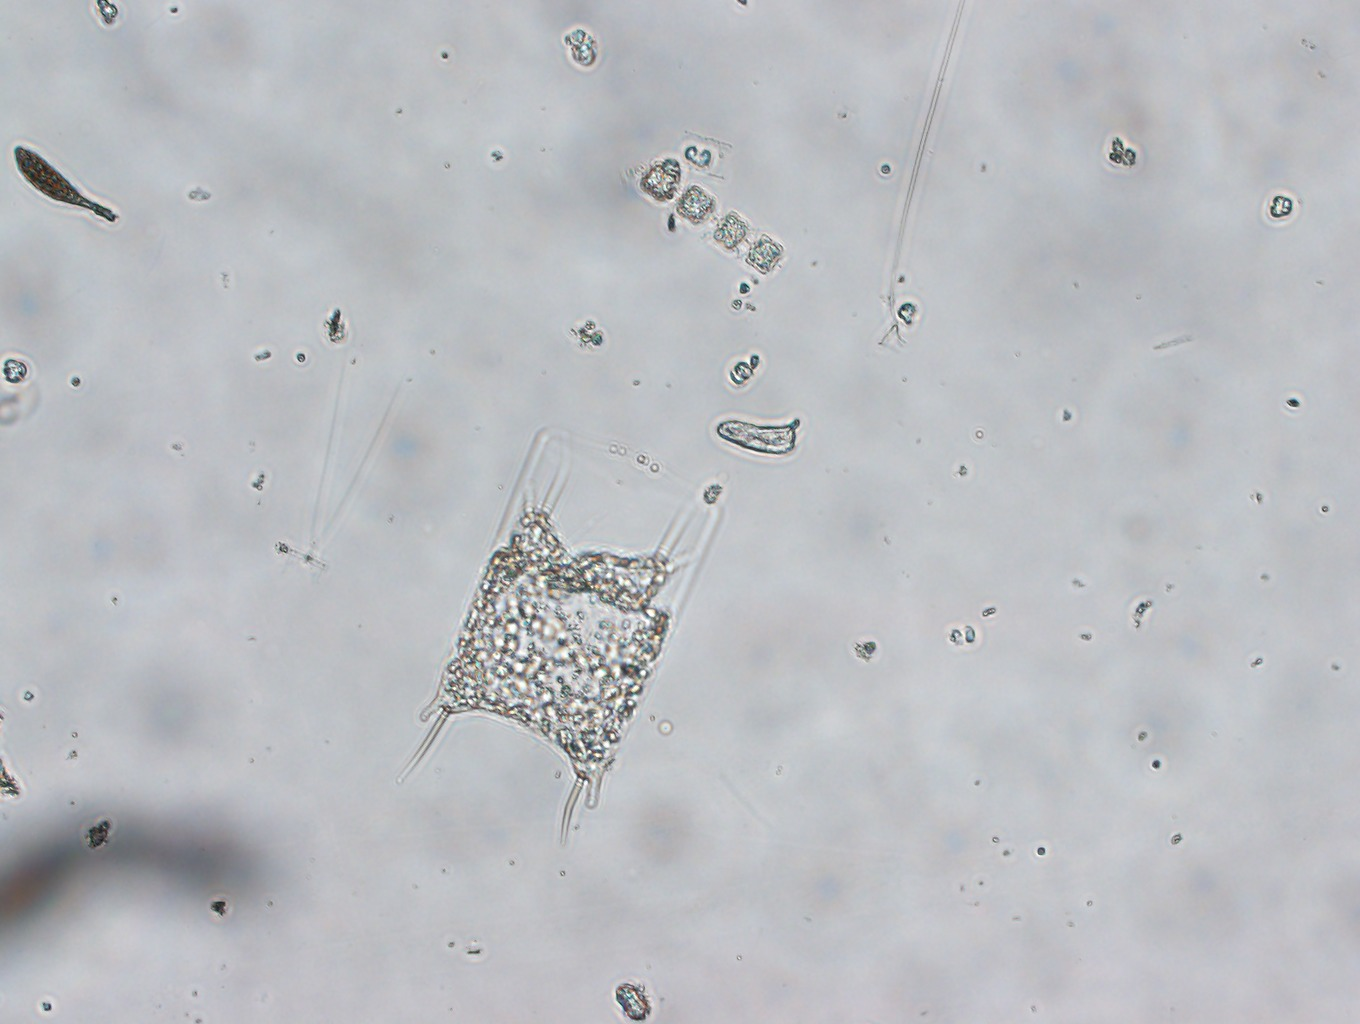biddulphia: (393, 410, 725, 843)
detonula pumila: (627, 147, 786, 287)
